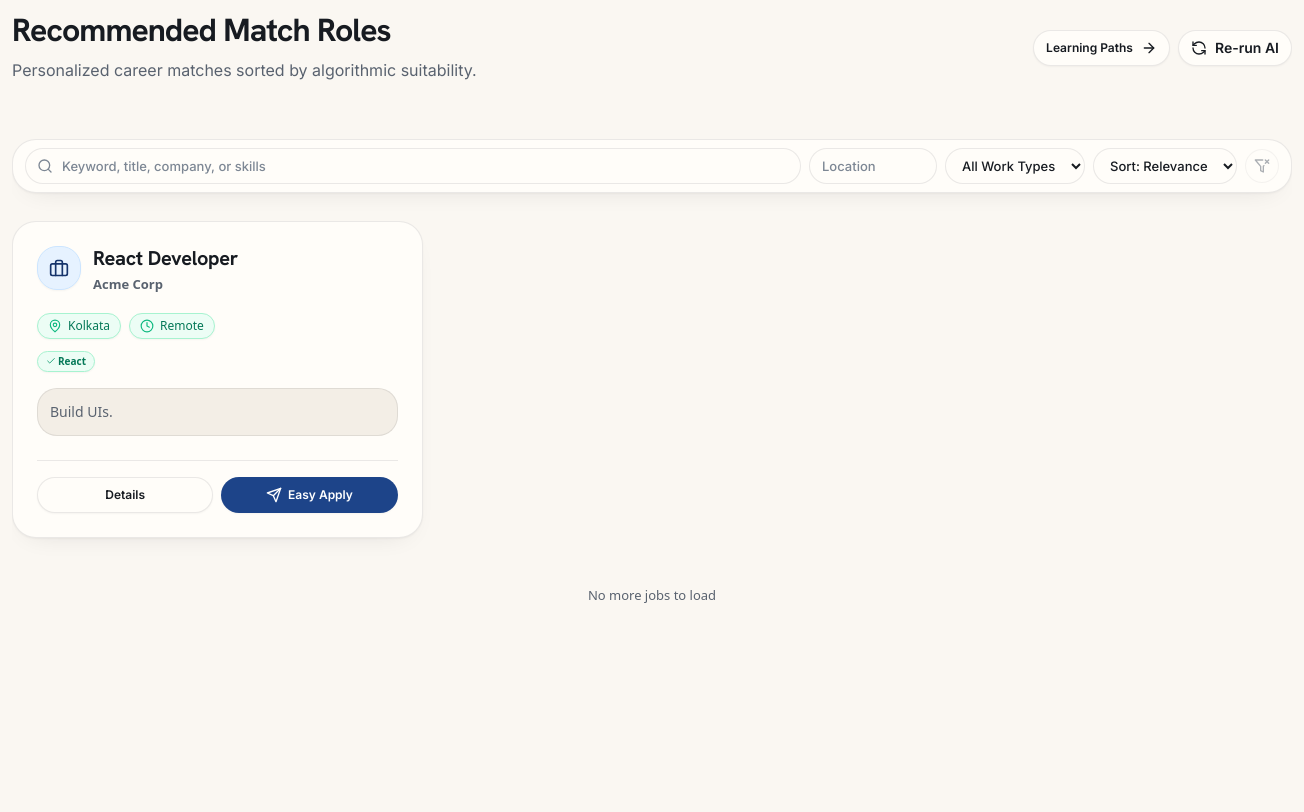
Test: JobsPage — job listing & application contract › surfaces the backend detail when the application fails (e.g. already applied)
Expected: the heading "React Developer" is shown, [93, 245, 238, 271]
Click the button "Easy Apply".
click(309, 495)  # box [221, 477, 398, 513]
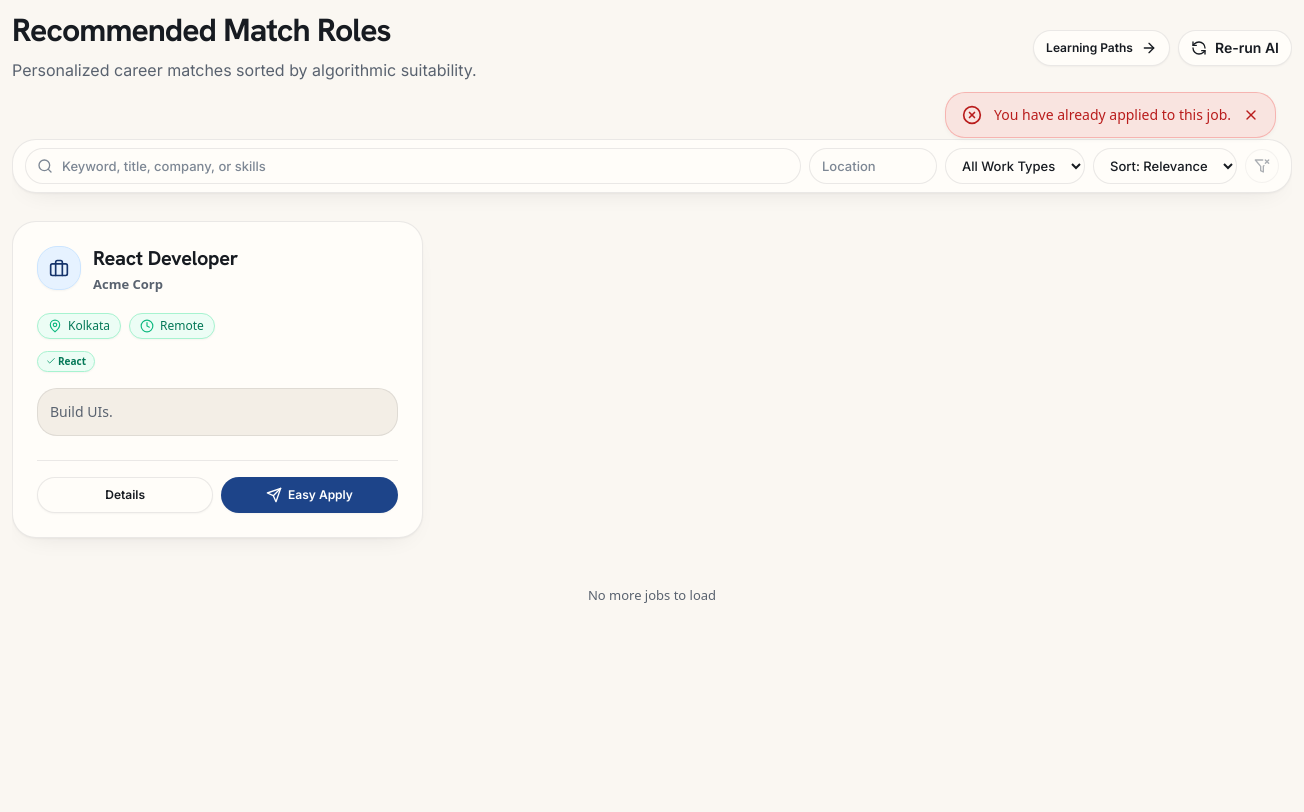
Now the text "You have already applied to this job." is shown, box [994, 105, 1231, 125]
